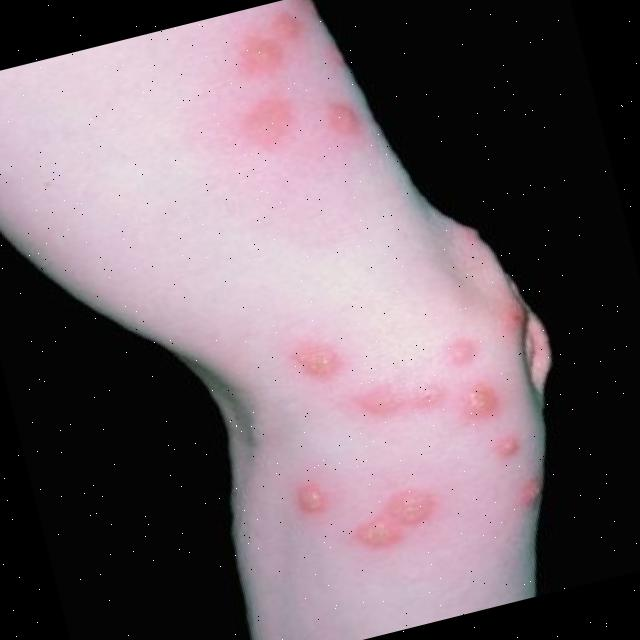kan emici bocekler: (214, 1, 326, 91), (339, 475, 453, 560), (221, 85, 328, 164), (279, 323, 361, 391), (444, 366, 516, 429), (432, 323, 497, 376), (315, 88, 372, 144), (284, 471, 345, 521), (486, 423, 535, 467)
